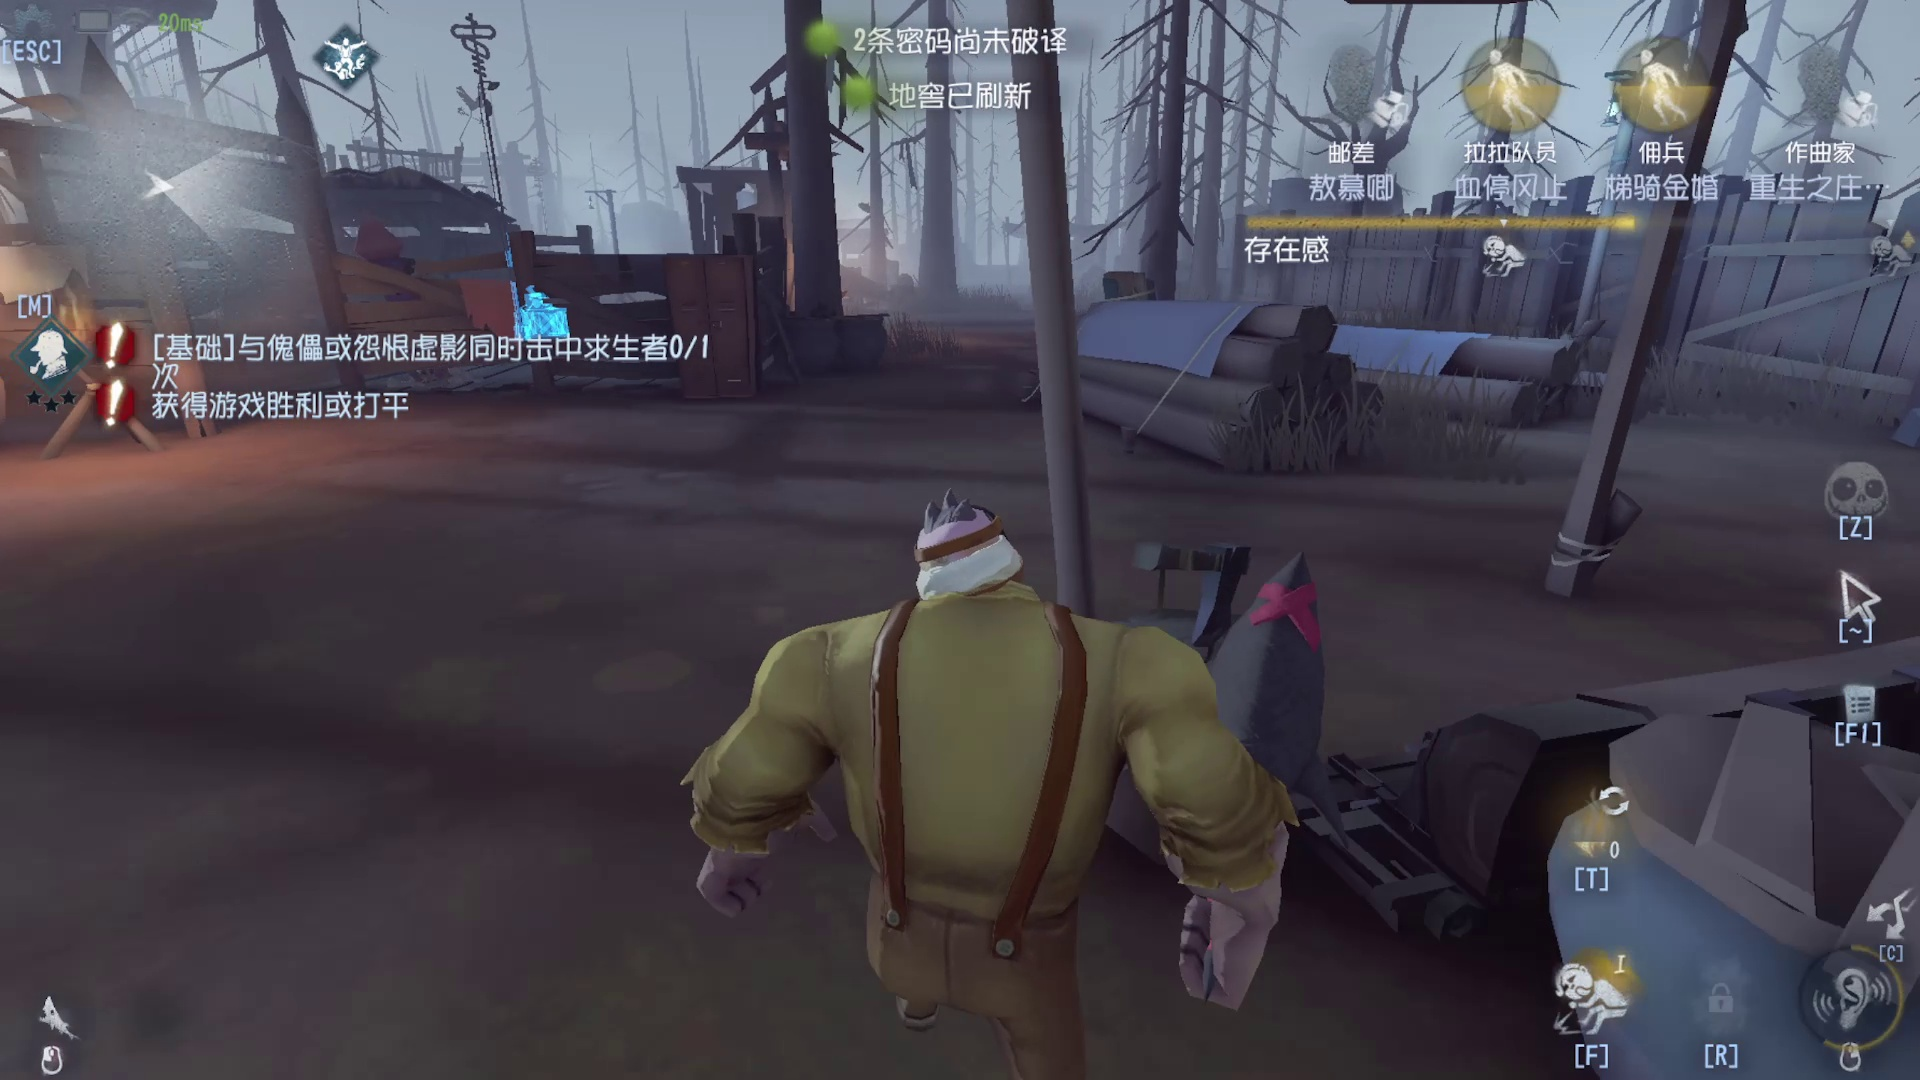密码机: (419, 26, 607, 376)
木板: (1091, 244, 1184, 310)
